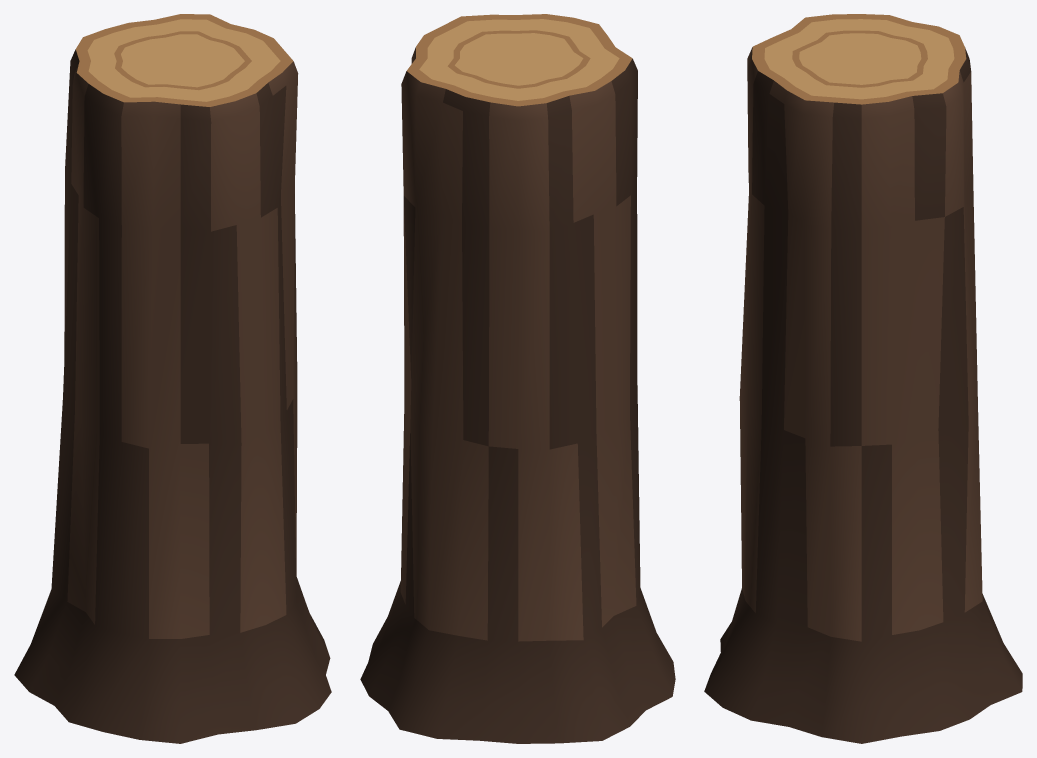
The model's file is LogStand.fbx.
The picture shows the model from 3 angles, left to right: view 1: azimuth 30°, elevation 25°; view 2: azimuth 150°, elevation 25°; view 3: azimuth 270°, elevation 25°; orthographic projection.
Parts seen in each view (by area): view 1: LogStand; view 2: LogStand; view 3: LogStand.
Boxes of the visible parts, left/top/right/bottom form: LogStand: left=14, top=14, right=331, bottom=743; LogStand: left=360, top=14, right=675, bottom=743; LogStand: left=704, top=14, right=1022, bottom=743.
Size of the model in its own units: 0.4703 by 1 by 0.4697.
